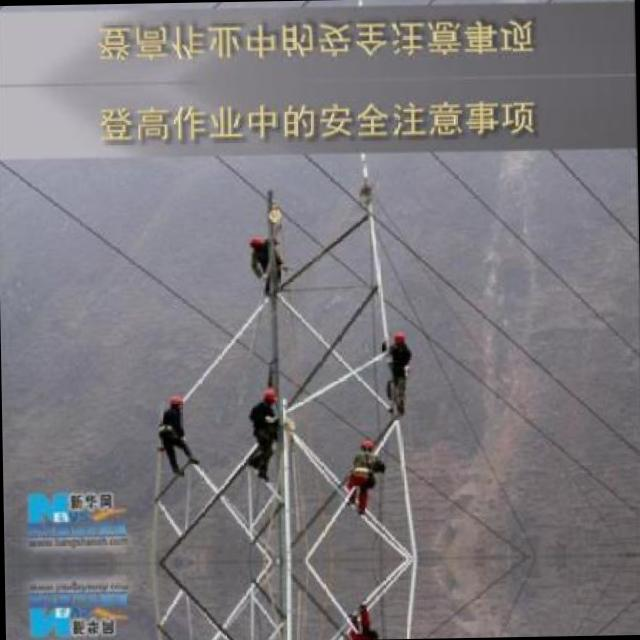helmet: (389, 330, 408, 350), (167, 392, 184, 414), (248, 232, 266, 252), (357, 436, 373, 458), (260, 388, 274, 408)
